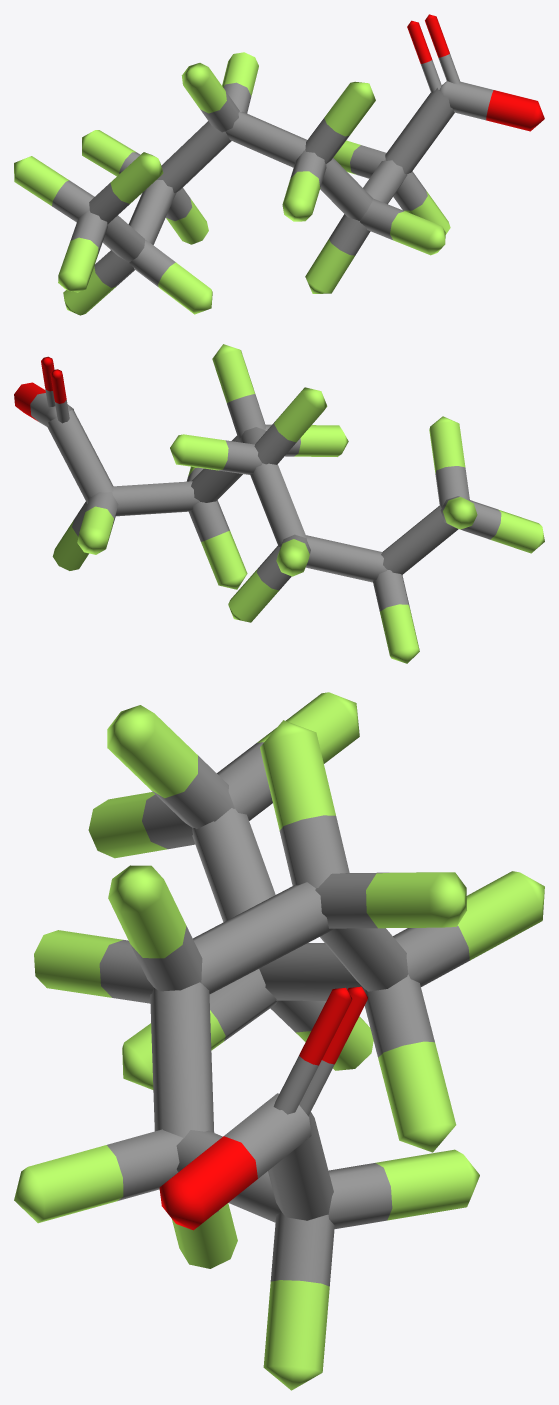
File: perfluoro.glb
3 views of the same model, one above another, from view 1: azimuth 30°, elevation 25°; view 2: azimuth 150°, elevation 25°; view 3: azimuth 270°, elevation 25° (orthographic). The views are drawn at different scales.
Parts seen in each view (by area): view 1: node-geom17; view 2: node-geom17; view 3: node-geom17.
Boxes of the visible parts, left/top/right/bottom form: node-geom17: left=14, top=14, right=544, bottom=315; node-geom17: left=14, top=344, right=544, bottom=663; node-geom17: left=14, top=692, right=544, bottom=1390.
Bounding box in the file's own units: 9.16 × 4.12 × 4.48.
